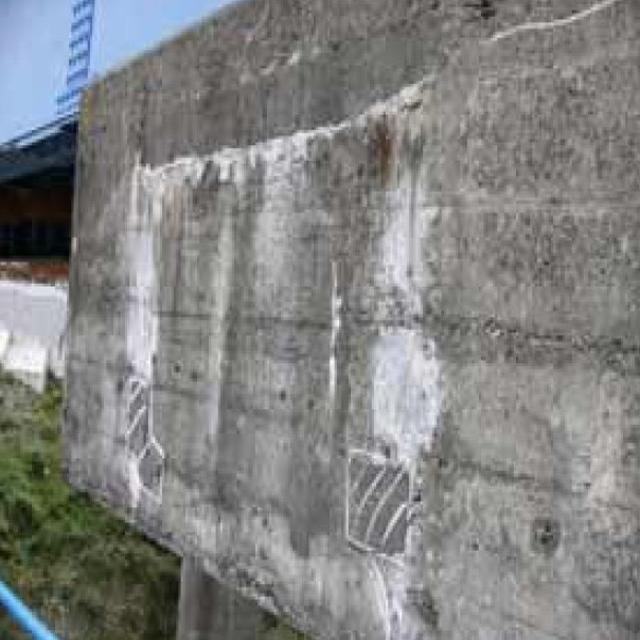freelime: (351, 118, 446, 523), (118, 144, 188, 409)
